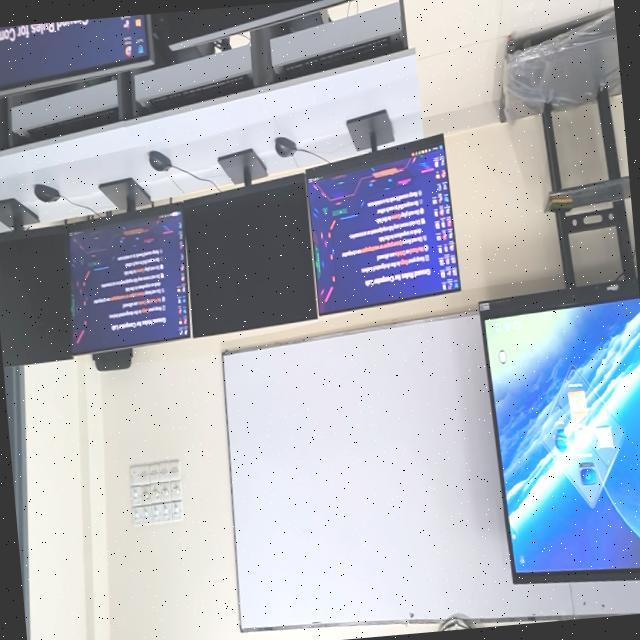Digital board: (479, 280, 640, 583)
Monitor: (307, 135, 460, 313), (182, 174, 317, 337), (69, 204, 190, 354), (0, 14, 152, 96), (0, 226, 72, 366), (163, 0, 351, 49)
Mouse: (34, 184, 61, 202), (149, 151, 172, 171), (275, 137, 297, 157)
